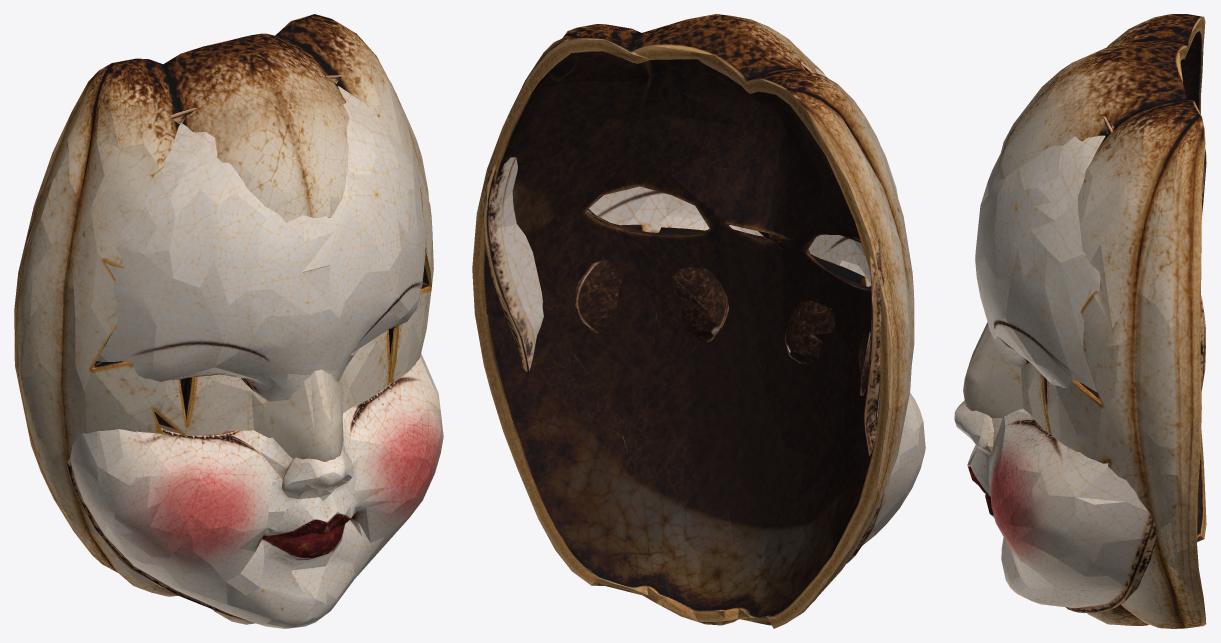
Rendered from masks.glb.
3 views of the same model, side by side, from view 1: azimuth 30°, elevation 25°; view 2: azimuth 150°, elevation 25°; view 3: azimuth 270°, elevation 25° (orthographic). The views are drawn at different scales.
Parts seen in each view (by area): view 1: mask_doll, mask_pumpkin; view 2: mask_pumpkin, mask_doll; view 3: mask_pumpkin, mask_doll.
Boxes of the visible parts, x1,y1,x2,y2 form: mask_doll: (24,75,443,628); mask_pumpkin: (14,14,433,624); mask_pumpkin: (472,14,914,628); mask_doll: (482,61,925,563); mask_pumpkin: (963,14,1206,628); mask_doll: (954,116,1206,613).
Bounding box in the file's own units: 0.1953 × 0.26 × 0.1042.
Materials: 2 (2 with a texture image).
